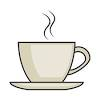cup: (17, 41, 91, 83)
